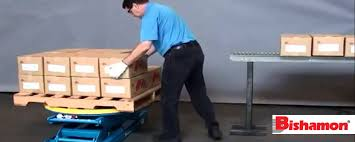Scissor Lift: (11, 92, 157, 142)
